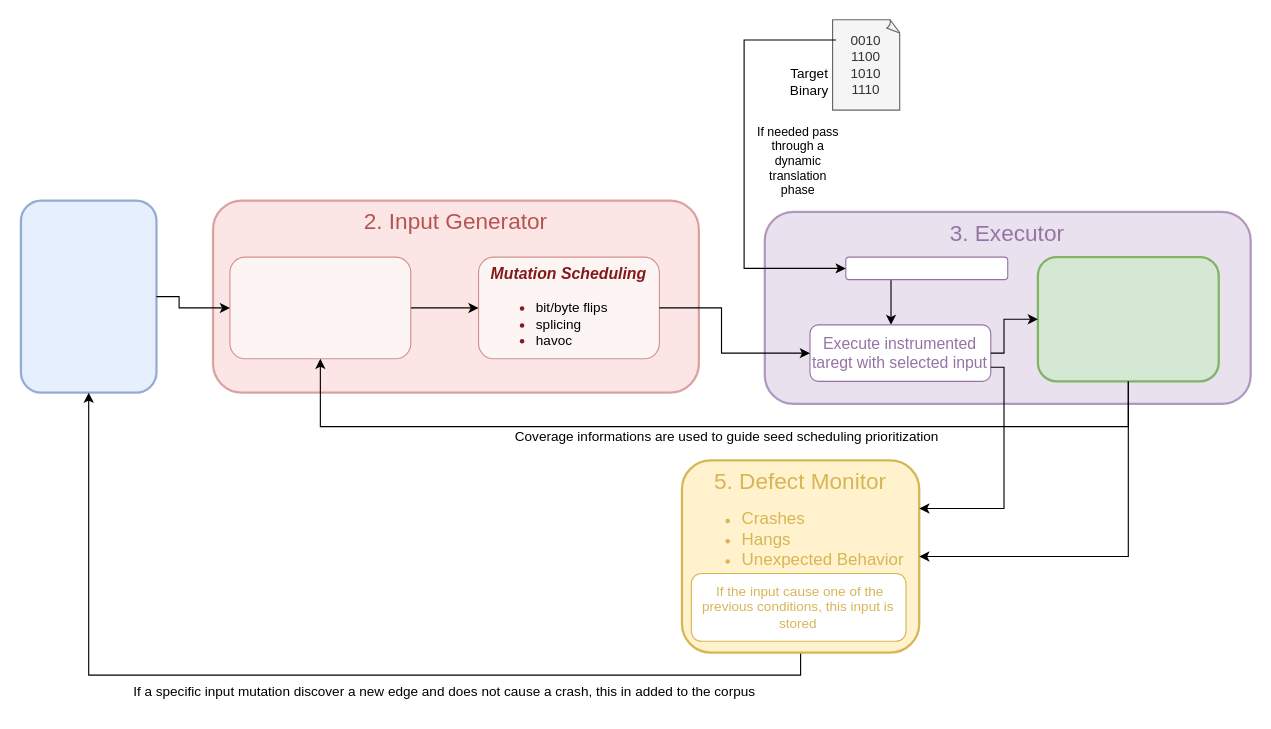
Image size: 1271x729. Some labels were removed from this diagram. Each missing label, with the centre of its shape:
"1. Corpus" belongs at (x=88, y=296).
"4. Coverage Collection" belongs at (x=1127, y=318).
"Dynamic Translator" belongs at (x=926, y=268).
"Seed Scheduling prioritization queue management" belongs at (x=320, y=307).
